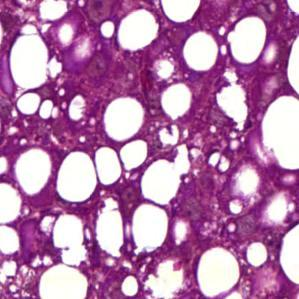steatosis: (112, 5, 156, 53), (55, 150, 94, 203), (222, 18, 271, 60), (103, 97, 148, 141), (140, 162, 184, 203), (181, 30, 219, 70)
